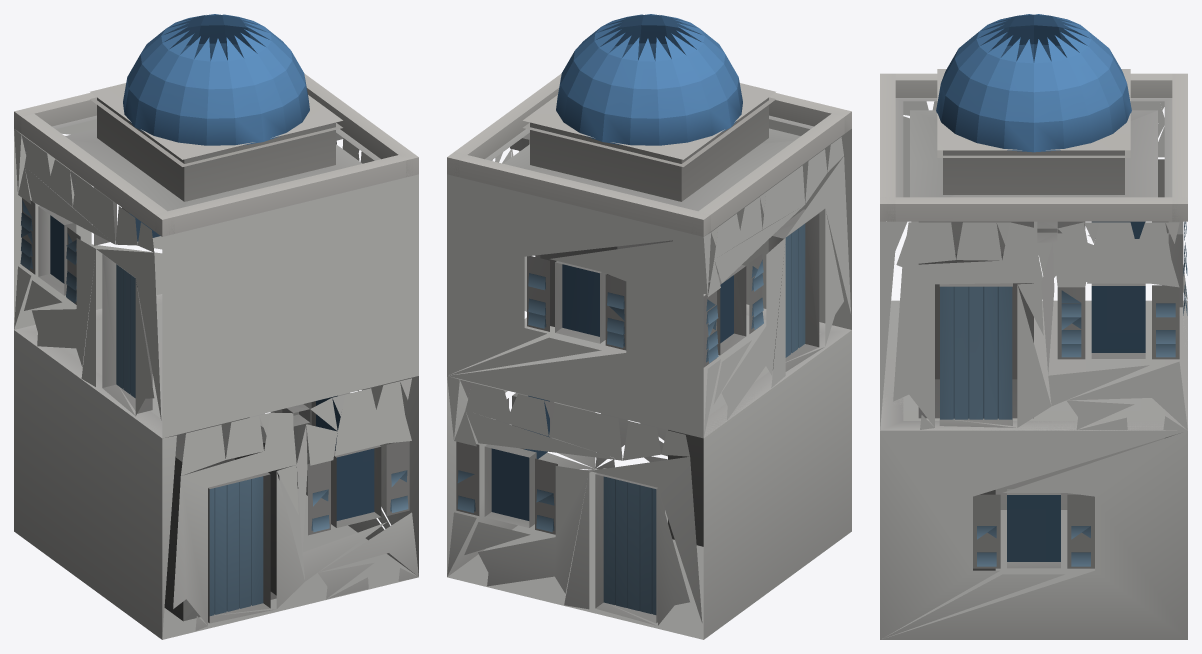
The model's file is dome2.lod.glb.
3 views of the same model, side by side, from view 1: azimuth 30°, elevation 25°; view 2: azimuth 150°, elevation 25°; view 3: azimuth 270°, elevation 25° (orthographic). The views are drawn at different scales.
Visible parts, largest first — view 1: dome2; view 2: dome2; view 3: dome2.
Part boxes in pixels (<box>): dome2: <box>14,14,418,639</box>; dome2: <box>447,14,851,639</box>; dome2: <box>880,14,1187,639</box>.
Bounding box in the file's own units: 4.4 × 8.66 × 4.4.
